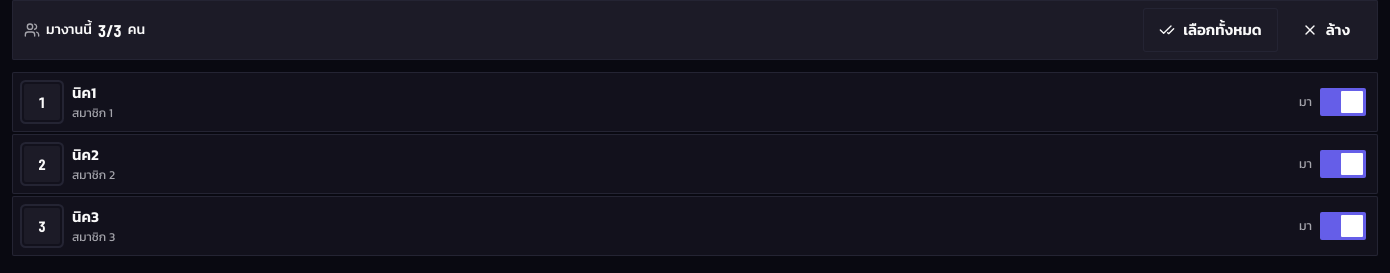
Scenario: LineupEditor · its writes are pending work the page can see › a toggle on the wire is pending; when it lands nothing is, and the tab says บันทึกแล้ว
This screenshot has width=1390, height=273.
Click the button "2 นิค2 สมาชิก 2 มา": {"x": 42, "y": 164} left=12, top=134, right=1378, bottom=194
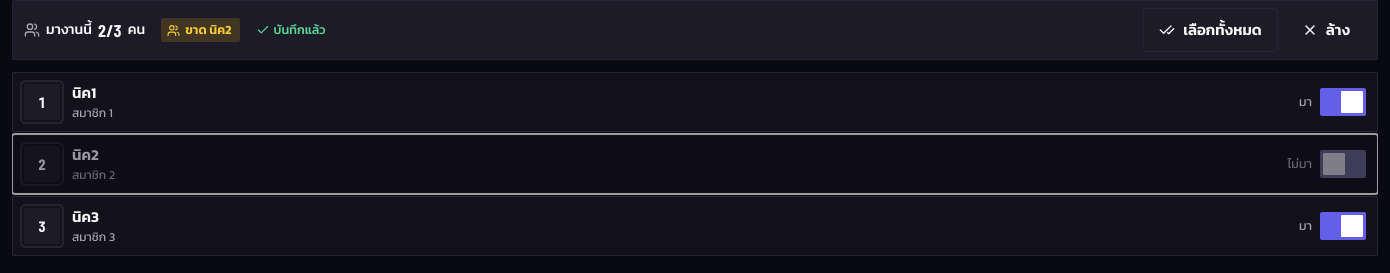
Expected: the text "บันทึกแล้ว" is shown, left=256, top=21, right=325, bottom=39
